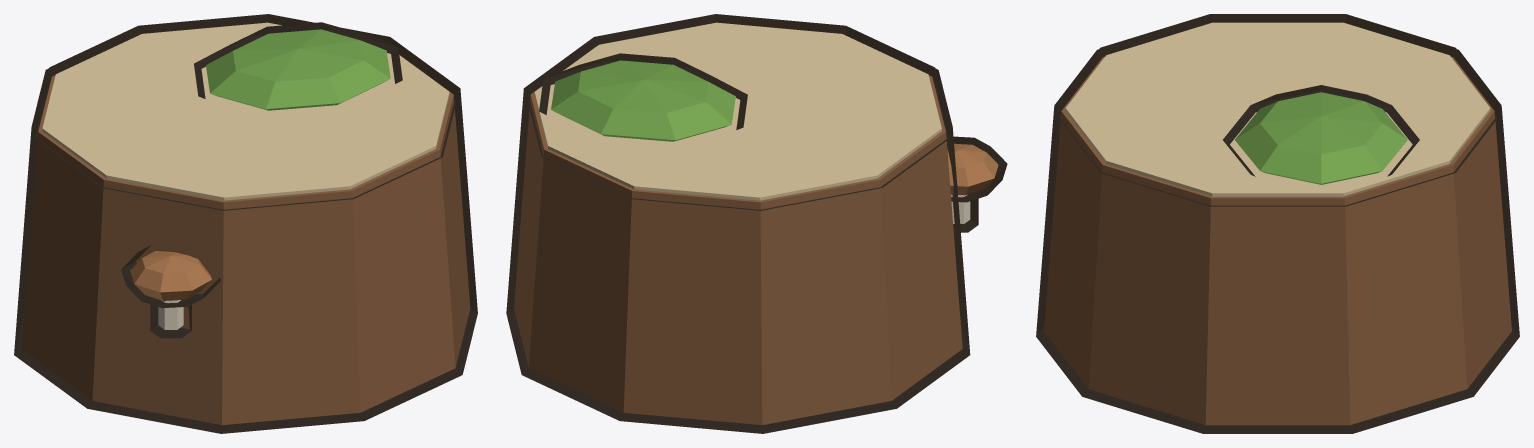
File: stump_02.glb
3 views of the same model, side by side, from view 1: azimuth 30°, elevation 25°; view 2: azimuth 150°, elevation 25°; view 3: azimuth 270°, elevation 25° (orthographic). The views are drawn at different scales.
Visible parts, largest first — view 1: OBJ_stump_02; view 2: OBJ_stump_02; view 3: OBJ_stump_02.
Part boxes in pixels (left/top/right/bottom): OBJ_stump_02: left=14, top=14, right=477, bottom=433; OBJ_stump_02: left=506, top=14, right=1007, bottom=433; OBJ_stump_02: left=1036, top=14, right=1519, bottom=433.
Size of the model in its own units: 0.531 by 0.3352 by 0.5583.
